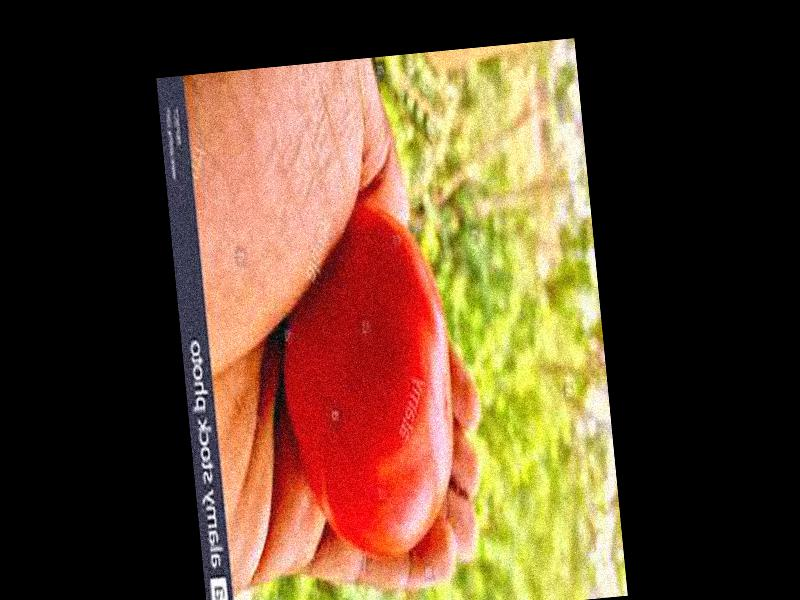Tomato: (270, 204, 465, 563)
